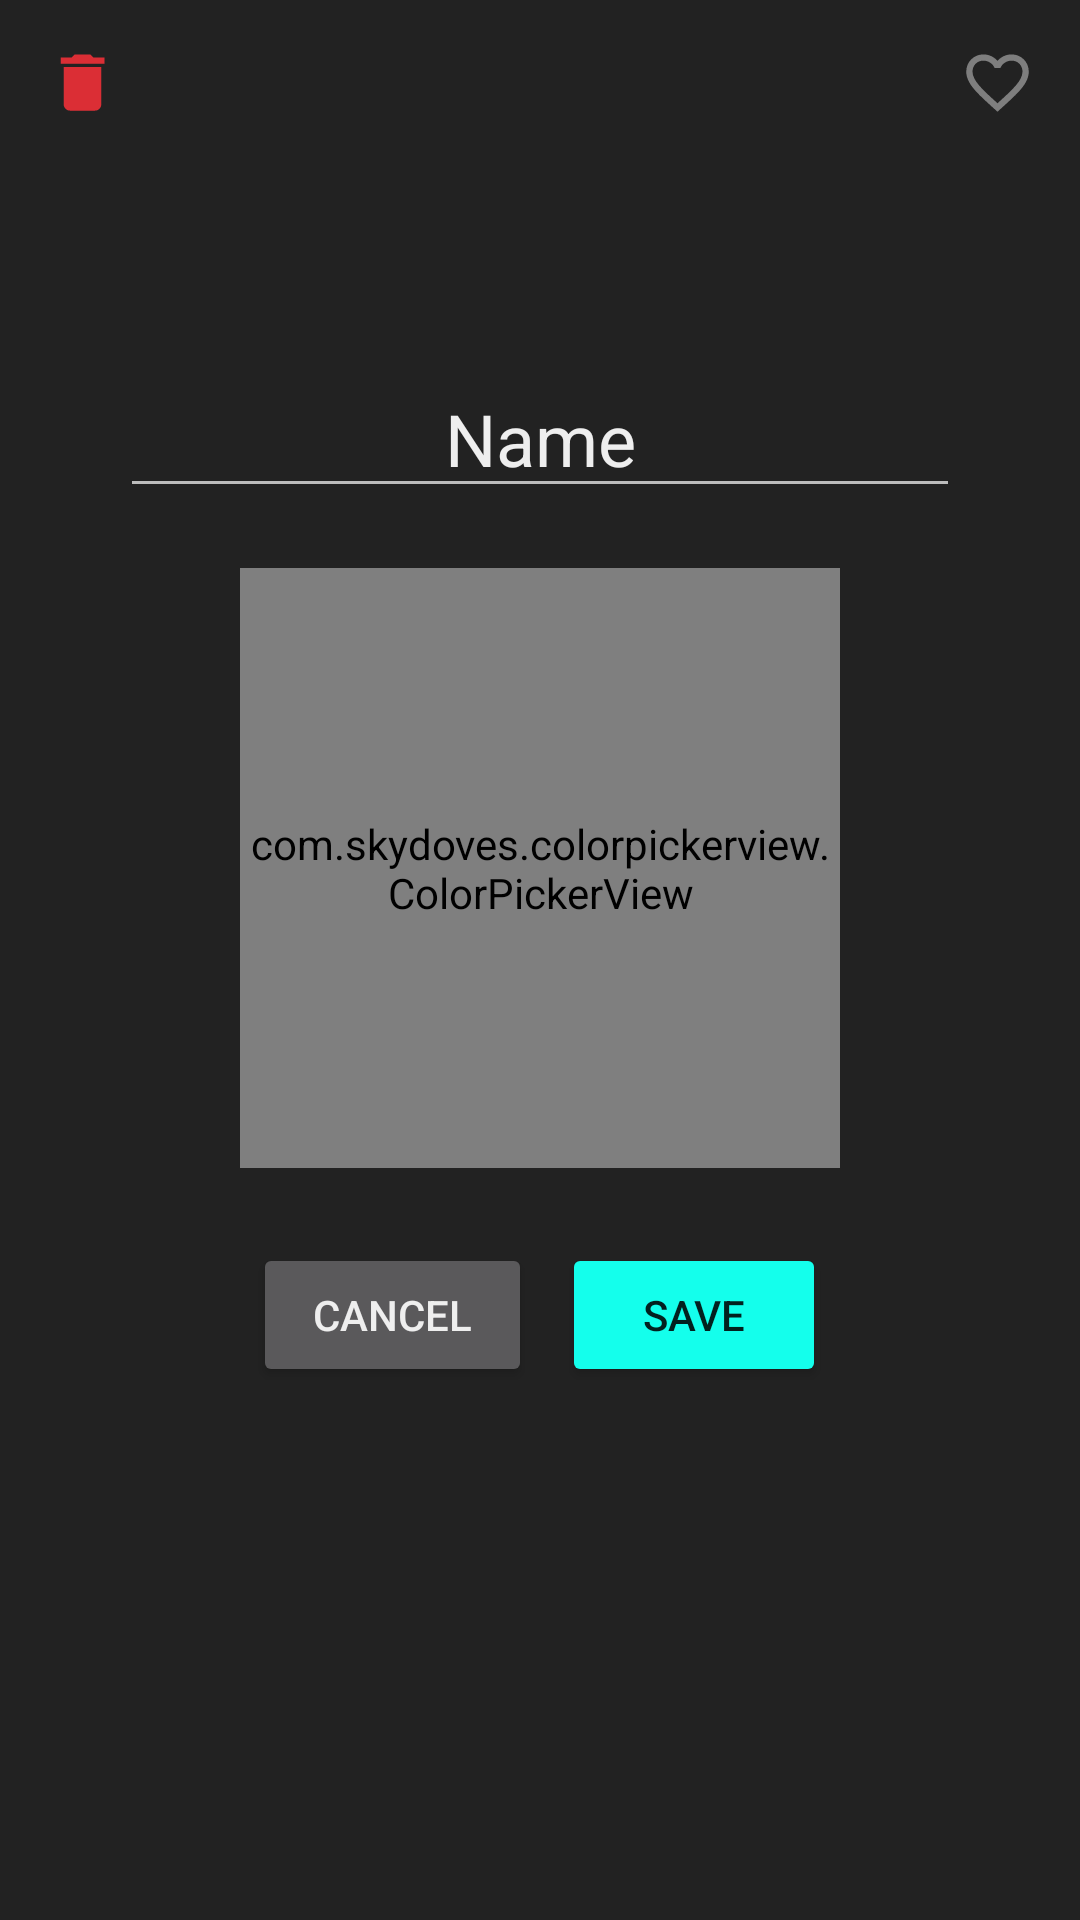

Named icons in this screenshot (1080x1920) and their centers, (x,y):
delete: (82,82)
